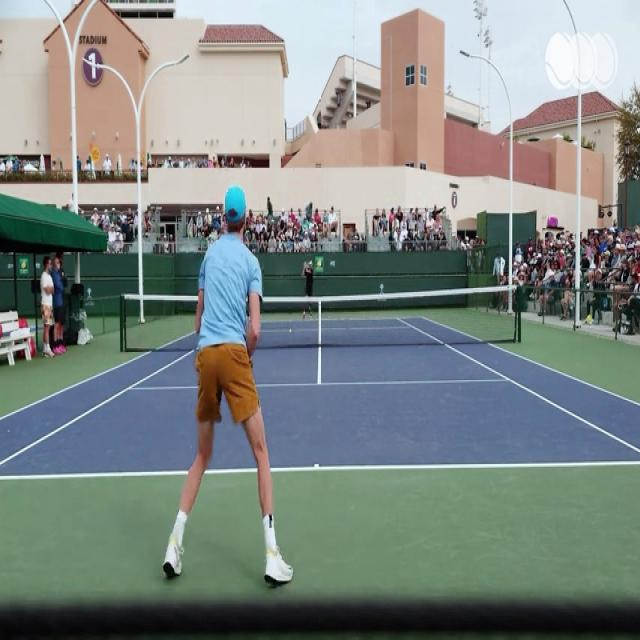ready-position: (166, 182, 297, 584)
